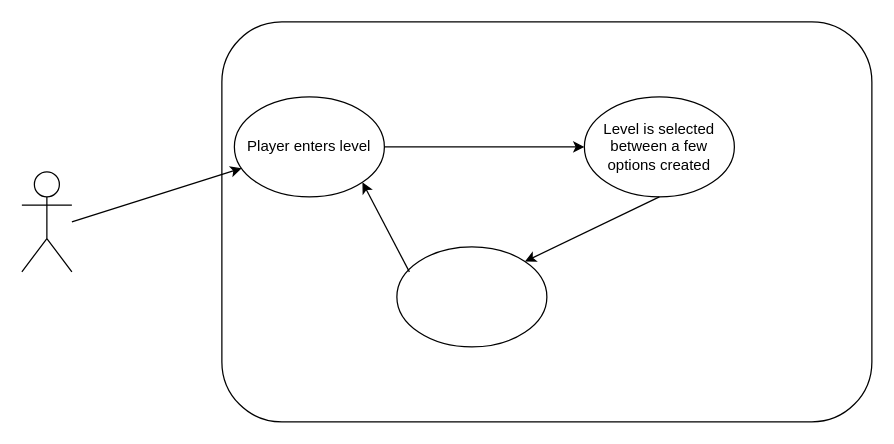
The diagram is 894 pixels wide and 444 high, and some of its shapes have lost their labels. The box of each missing label's shape, as (x1, y1, x2, y2) in pixels:
Actor: (21, 171, 72, 272)
Player decends to next floor: (396, 246, 547, 347)
